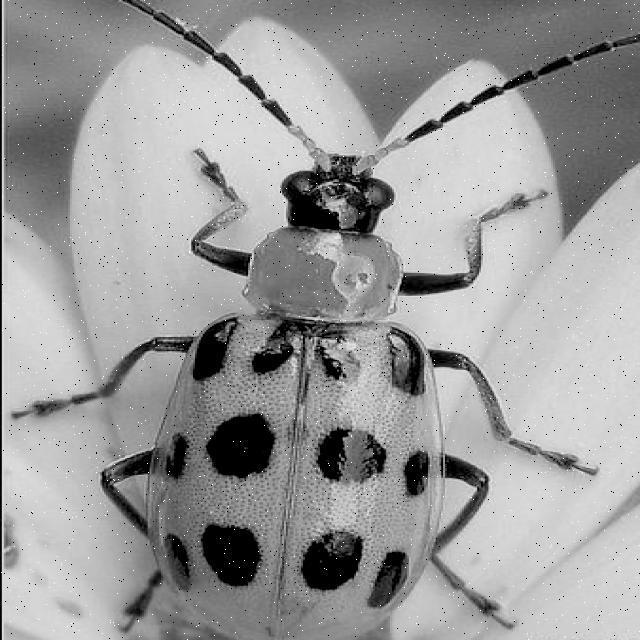gusano_verde: (10, 0, 640, 640)
